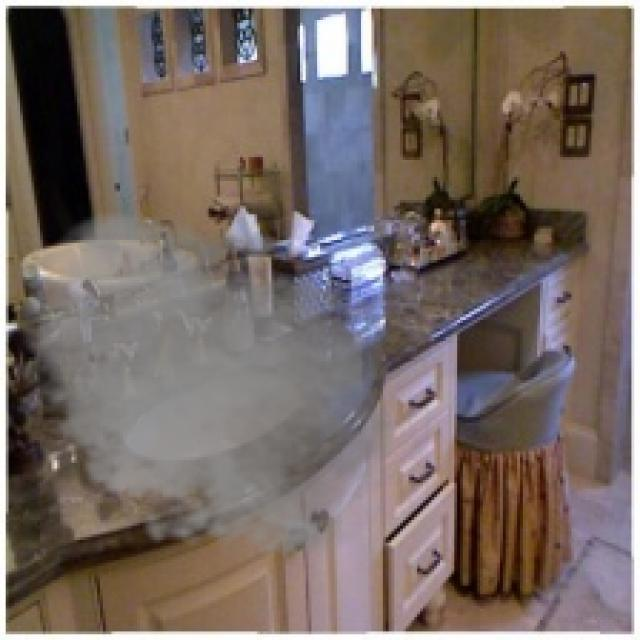Smoke: (8, 206, 423, 568)
